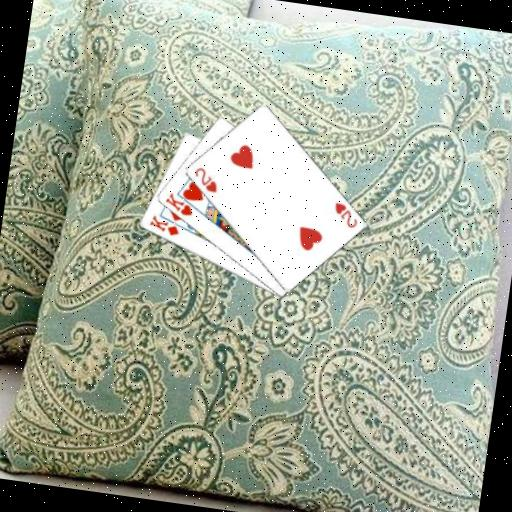2H: (328, 199, 361, 230), (190, 163, 222, 194)
KD: (145, 212, 183, 239)
KH: (160, 189, 197, 218)
